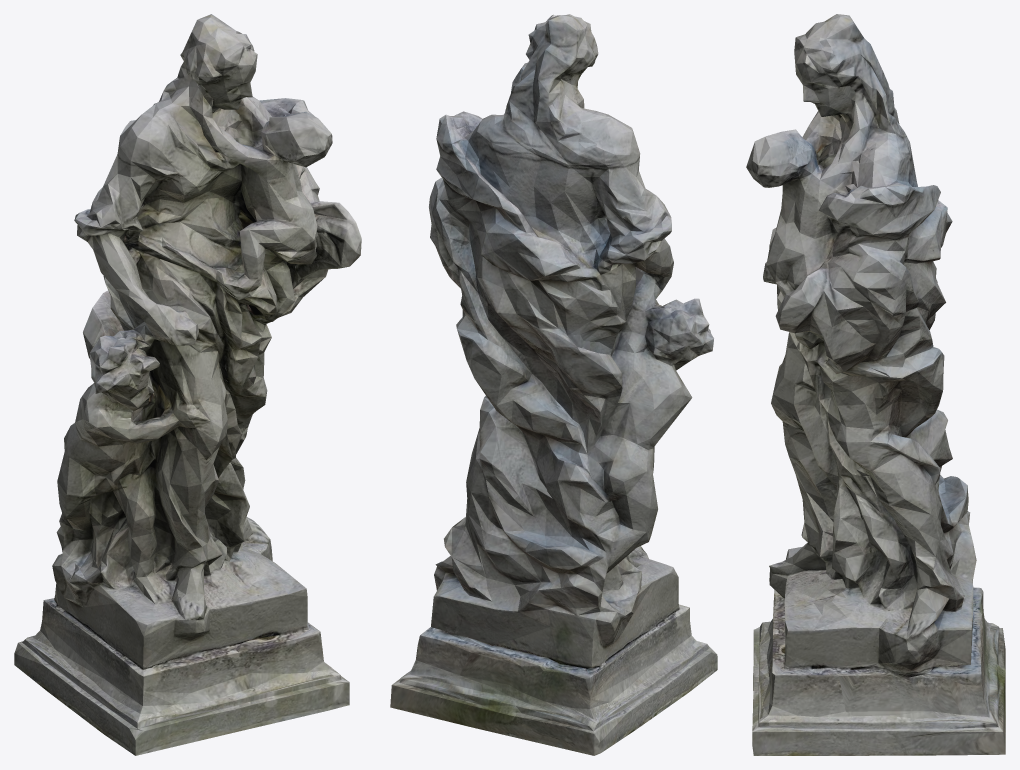
File: laska.glb
3 renders of one model, left to right at view 1: azimuth 30°, elevation 25°; view 2: azimuth 150°, elevation 25°; view 3: azimuth 270°, elevation 25°, orthographic. The views are drawn at different scales.
Visible parts, largest first — view 1: Laska_lowpoly; view 2: Laska_lowpoly; view 3: Laska_lowpoly.
Boxes of the visible parts, box(x1,y1,x2,y2) form: Laska_lowpoly: box(14, 14, 361, 755); Laska_lowpoly: box(390, 14, 717, 755); Laska_lowpoly: box(746, 14, 1005, 755).
Size of the model in its own units: 1.07 by 2.68 by 0.9117.
Materials: 1 (1 with a texture image).
